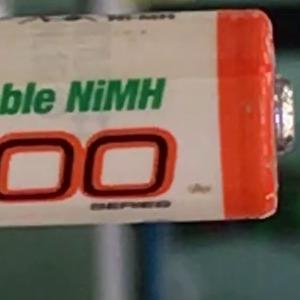keyword: (56, 68, 175, 122)
